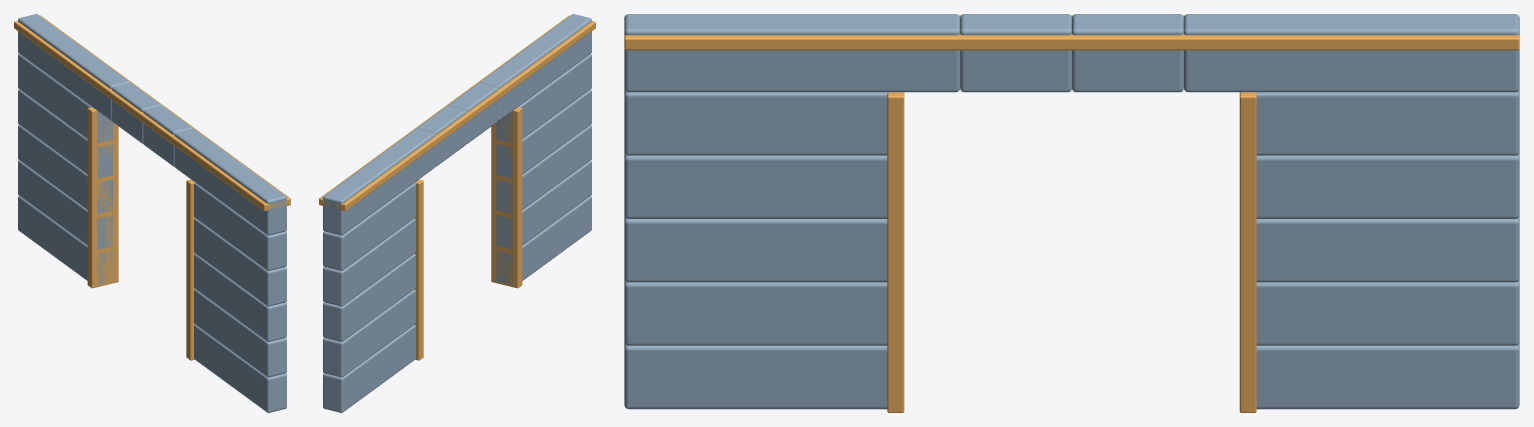
Rendered from portal.glb.
3 views of the same model, side by side, from view 1: azimuth 30°, elevation 25°; view 2: azimuth 150°, elevation 25°; view 3: azimuth 270°, elevation 25° (orthographic). The views are drawn at different scales.
Parts seen in each view (by area): view 1: Portal; view 2: Portal; view 3: Portal.
Part boxes in pixels (left/top/right/bottom): Portal: left=14, top=14, right=290, bottom=412; Portal: left=319, top=14, right=595, bottom=412; Portal: left=624, top=14, right=1519, bottom=412.
Size of the model in its own units: 0.4 by 3 by 6.4.
